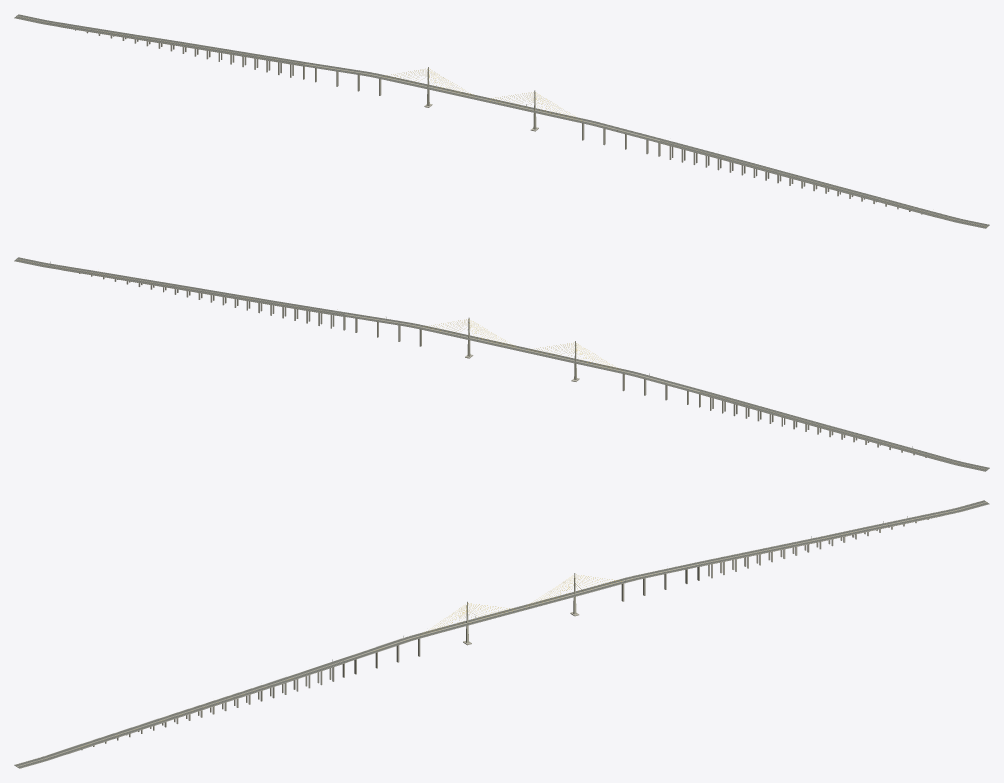
File: sunshine-skyway-bridge-far.glb
3 views of the same model, one above another, from view 1: azimuth 30°, elevation 25°; view 2: azimuth 210°, elevation 25°; view 3: azimuth 270°, elevation 25° (orthographic). The views are drawn at different scales.
Parts seen in each view (by area): view 1: sunshine-skyway-bridge-0-asphalt, sunshine-skyway-bridge-0-concrete, sunshine-skyway-bridge-0-median; view 2: sunshine-skyway-bridge-0-asphalt, sunshine-skyway-bridge-0-concrete, sunshine-skyway-bridge-0-median; view 3: sunshine-skyway-bridge-0-asphalt, sunshine-skyway-bridge-0-concrete, sunshine-skyway-bridge-0-median.
Boxes of the visible parts, box(x1,y1,x2,y2) form: sunshine-skyway-bridge-0-asphalt: box(15, 14, 989, 228); sunshine-skyway-bridge-0-concrete: box(14, 14, 989, 228); sunshine-skyway-bridge-0-median: box(16, 15, 987, 226); sunshine-skyway-bridge-0-asphalt: box(14, 257, 989, 471); sunshine-skyway-bridge-0-concrete: box(14, 257, 989, 471); sunshine-skyway-bridge-0-median: box(16, 259, 987, 469); sunshine-skyway-bridge-0-asphalt: box(14, 500, 988, 768); sunshine-skyway-bridge-0-concrete: box(14, 500, 989, 768); sunshine-skyway-bridge-0-median: box(16, 501, 987, 767).
Size of the model in its own units: 1827 by 131 by 2809.
